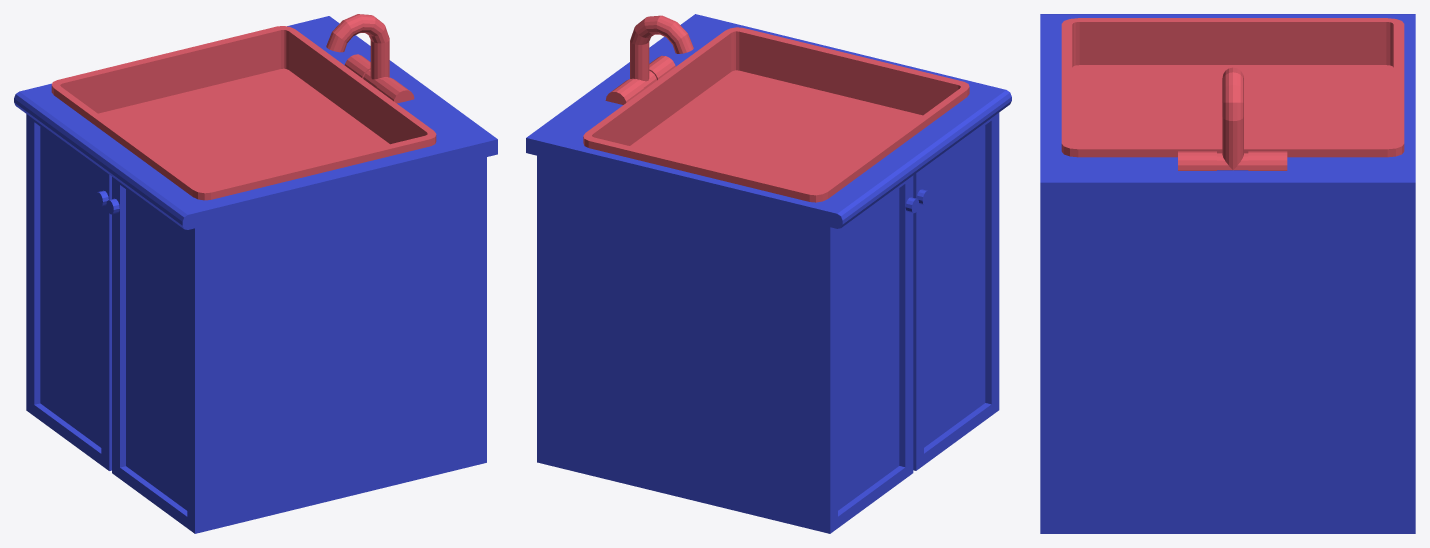
Rendered from Sink.fbx.
The picture shows the model from 3 angles, left to right: view 1: azimuth 30°, elevation 25°; view 2: azimuth 150°, elevation 25°; view 3: azimuth 270°, elevation 25°; orthographic projection. The views are drawn at different scales.
Visible parts, largest first — view 1: Cabinet bottm.001, Sink; view 2: Cabinet bottm.001, Sink; view 3: Cabinet bottm.001, Sink.
Part boxes in pixels (bbox=[...]): Cabinet bottm.001: bbox=[14, 16, 497, 533]; Sink: bbox=[51, 14, 436, 200]; Cabinet bottm.001: bbox=[526, 14, 1011, 533]; Sink: bbox=[583, 15, 969, 202]; Cabinet bottm.001: bbox=[1040, 14, 1415, 533]; Sink: bbox=[1061, 18, 1404, 170].
Bounding box in the file's own units: 130 × 155 × 120.
